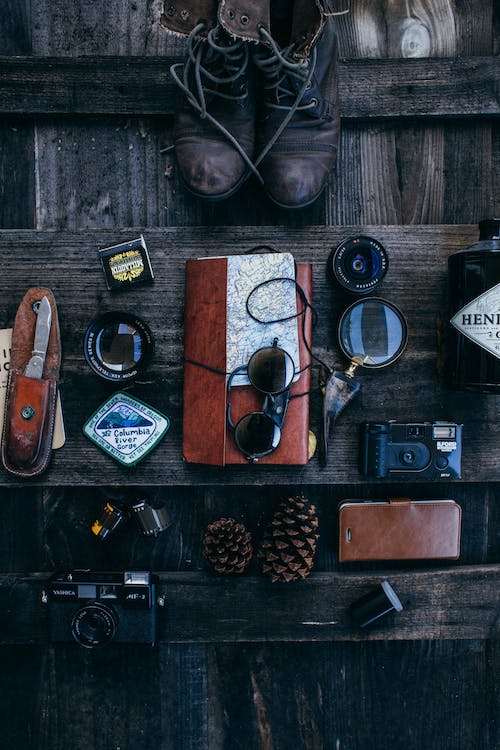knife: (20, 292, 57, 378)
